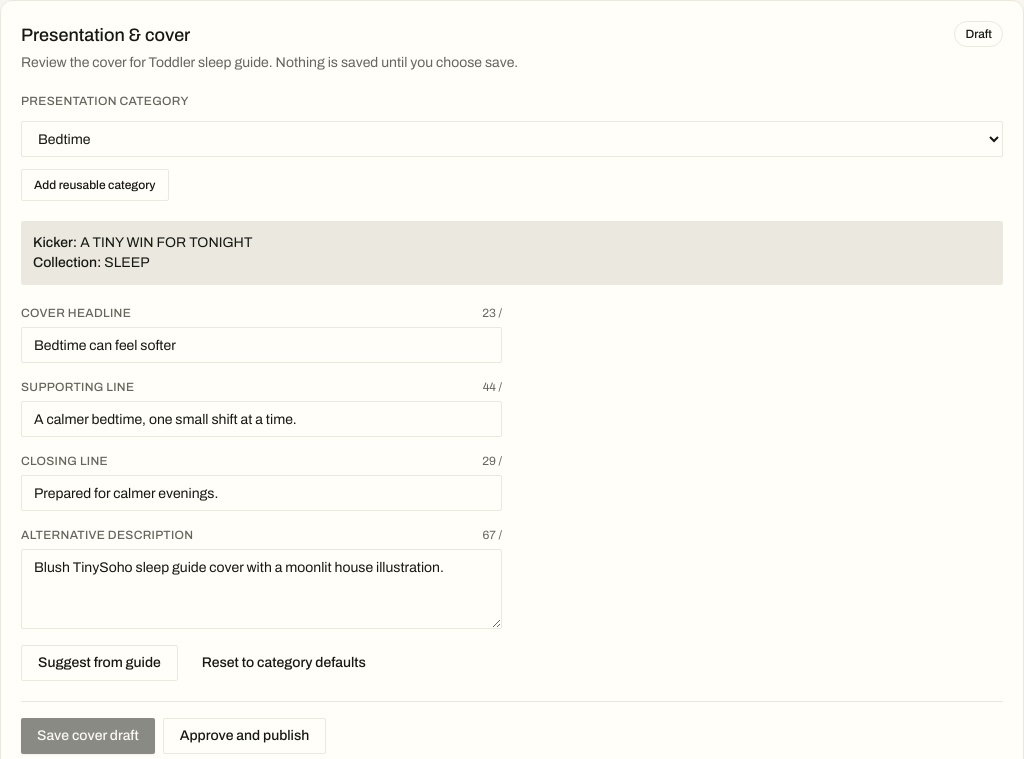
Test: GuideCoverPanel approval and publication › approves then publishes with the same revision and never touches messages
The width and height of the screenshot is (1024, 759).
Click the button "Approve and publish" at [244, 736], box [163, 718, 326, 754]
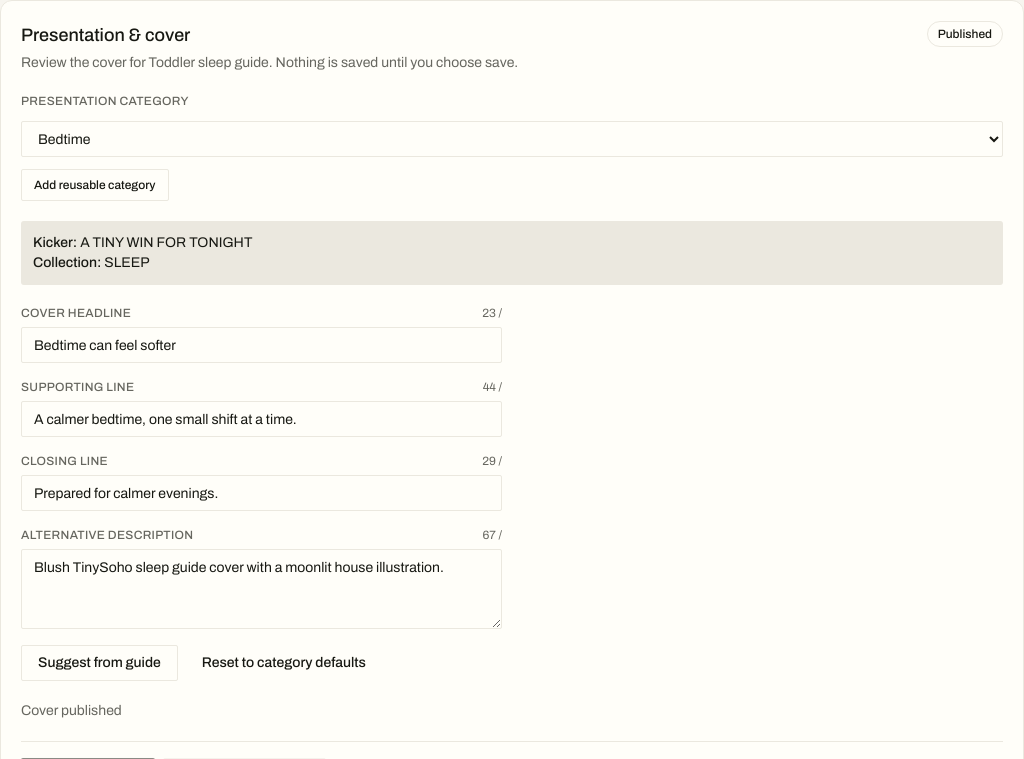
Expected: the text "Published" is shown, [927, 21, 1003, 47]
